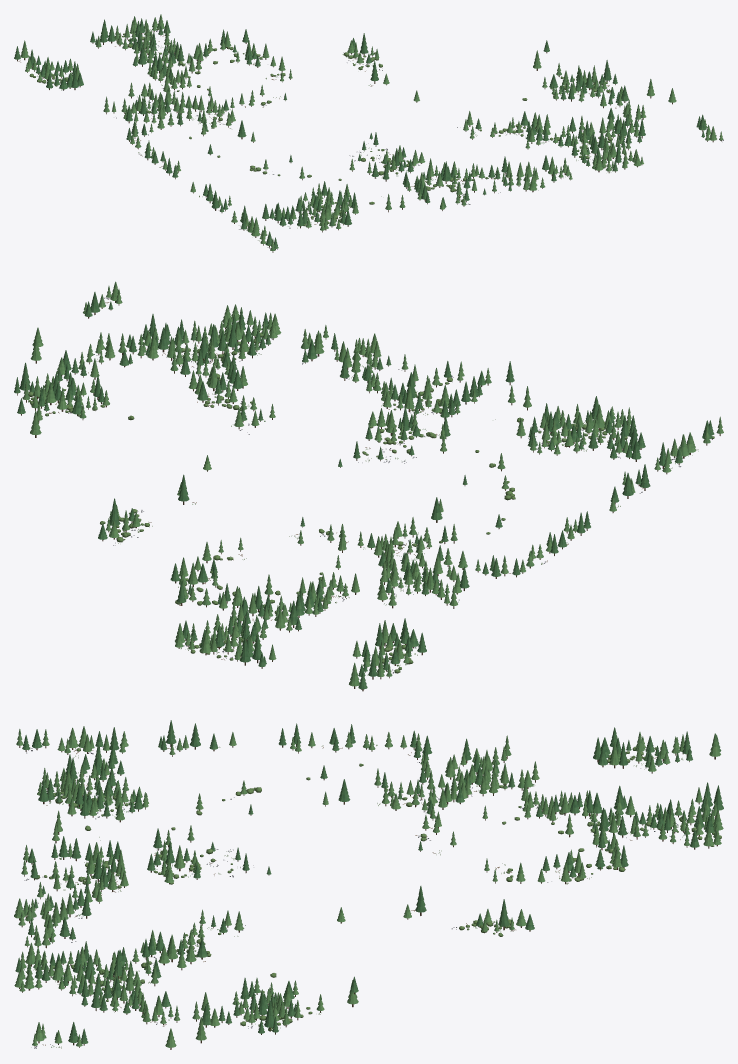
File: Foliage_P2.fbx
The picture shows the model from 3 angles, top to bottom: view 1: azimuth 30°, elevation 25°; view 2: azimuth 150°, elevation 25°; view 3: azimuth 270°, elevation 25°; orthographic projection. The views are drawn at different scales.
Bounding box in the file's own units: 61678 × 5829 × 61517.
